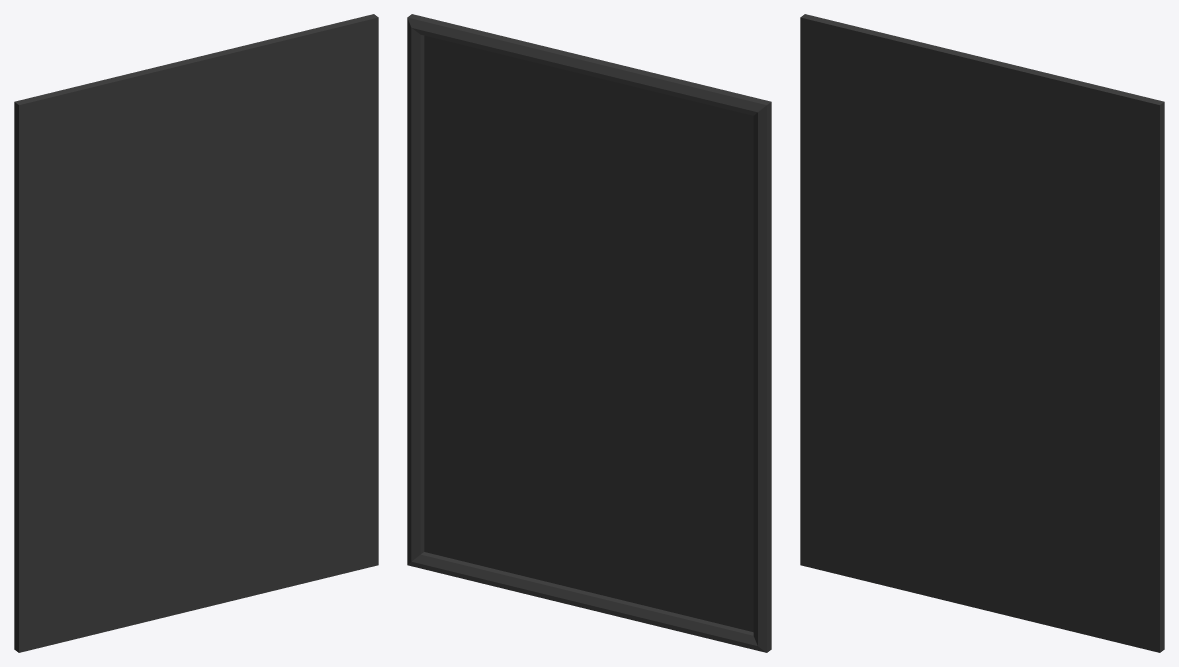
File: PictureFrame_Wall_01.fbx
3 views of the same model, side by side, from view 1: azimuth 30°, elevation 25°; view 2: azimuth 150°, elevation 25°; view 3: azimuth 330°, elevation 25° (orthographic).
Visible parts, largest first — view 1: Cube; view 2: Cube; view 3: Cube.
Boxes of the visible parts, left/top/right/bottom form: Cube: left=14, top=14, right=378, bottom=652; Cube: left=407, top=14, right=771, bottom=652; Cube: left=800, top=14, right=1164, bottom=652.
Bounding box in the file's own units: 65.87 × 95.87 × 2.28.
